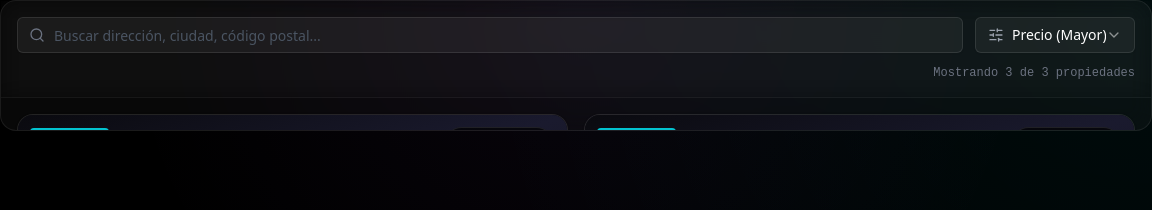
Test case: PropertyList › filters by search query
The width and height of the screenshot is (1152, 210).
Type "Brickell" into the field with placeholder "Buscar dirección, ciudad, código postal..." at coordinates (490, 35), box [17,17,963,53]
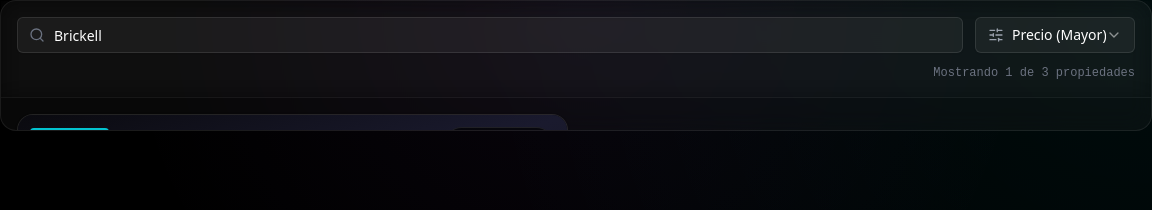
Expected: the text "200 Collins Ave" is not shown
Expected: the text "Mostrando 1 de 3 propiedades" is shown, [933,66,1135,80]
